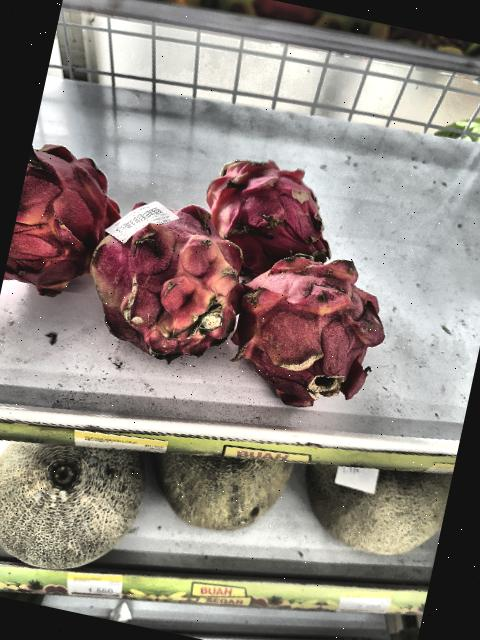buah-naga-belum-matang: (72, 180, 261, 372)
buah-naga-matang: (223, 236, 408, 419), (3, 134, 132, 306), (193, 144, 351, 280)
